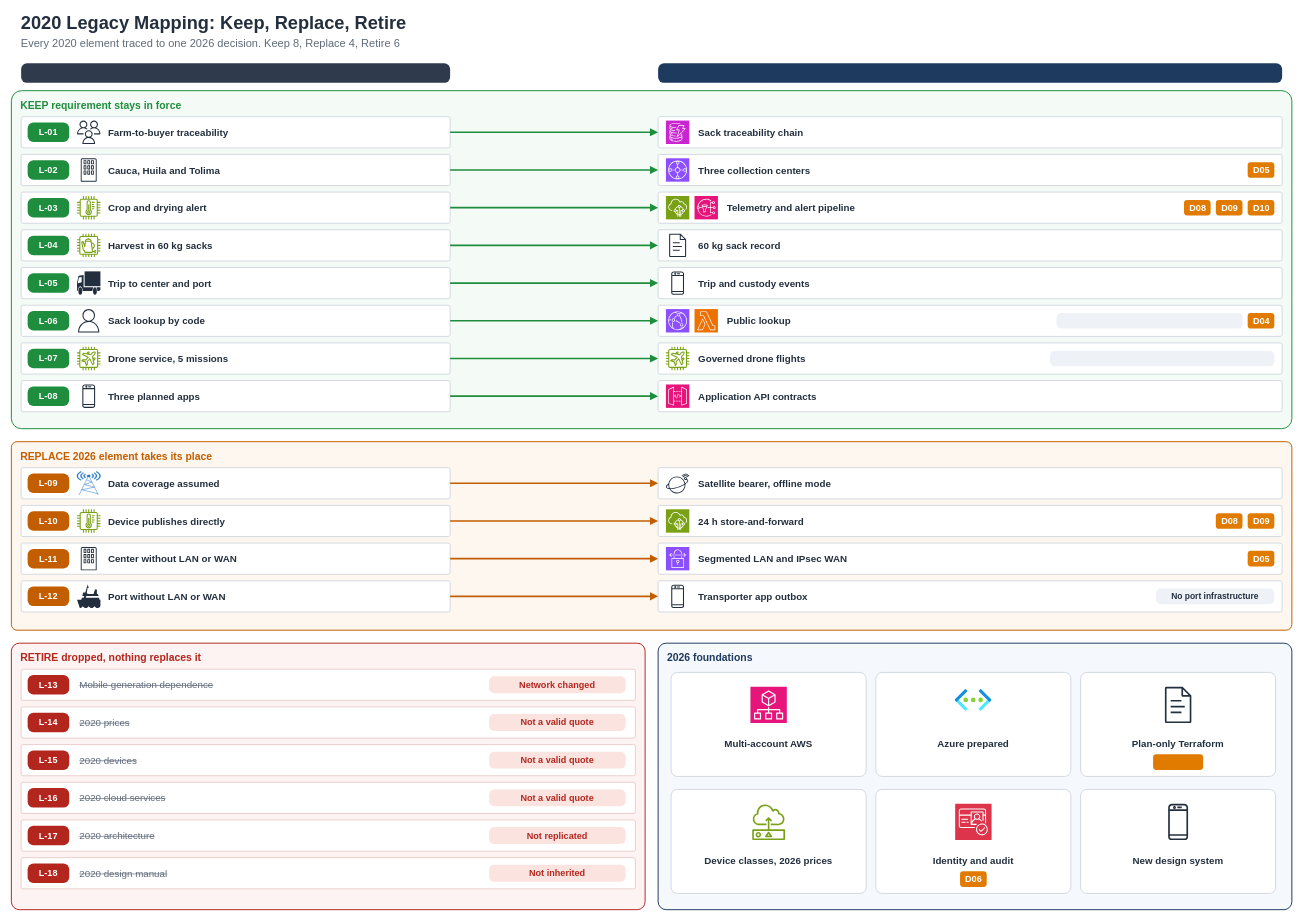
The diagram is 1304 pixels wide and 921 high, and some of its shapes have lost their labels. The shapes that lost their labels are listed below. From the top down, each one's centre as x and y in pixels, then its label:
the point at 235,73: 2020 pilot (case statement)
the point at 970,73: 2026 design
the point at 1149,320: Buyer: origin, dates, status, drying
the point at 1162,358: ADR-002: contracted operator, agronomist MFA
the point at 1178,762: D01-D03
